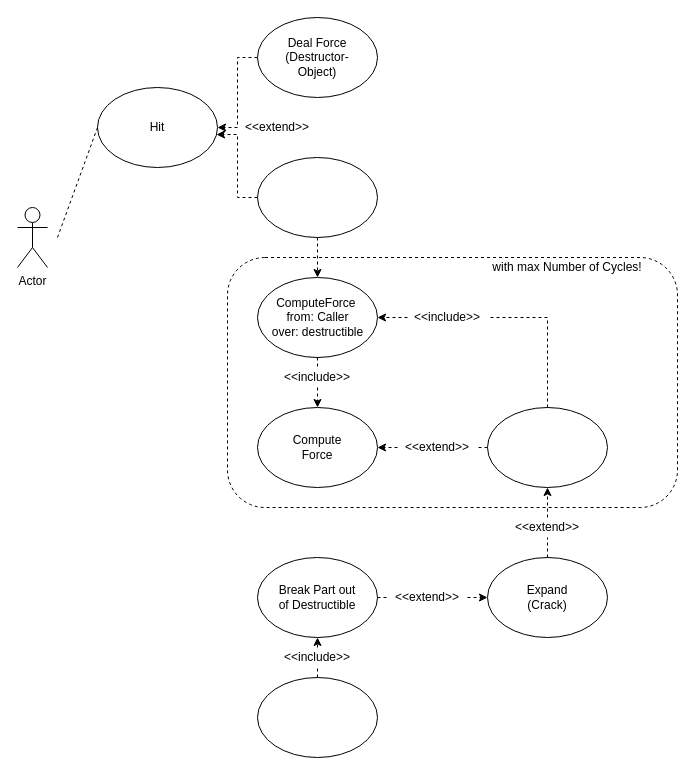
The diagram is 695 pixels wide and 775 high, and some of its shapes have lost their labels. Here are the shapes that lost their labels. From the top down, the centre of each, then its label:
At (317,197): "Receive Force (Destructible Object)".
At (547,447): "Force on Crack".
At (317,717): "Cut Mesh (Destructible)".
